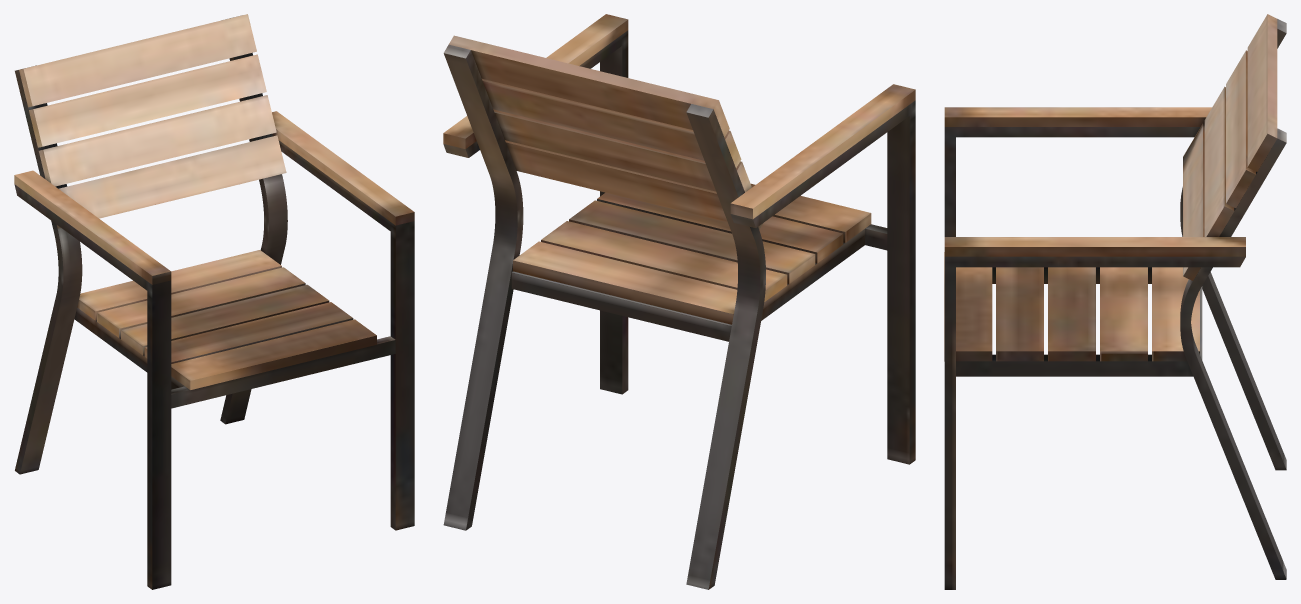
The model's file is garden_chair.glb.
The picture shows the model from 3 angles, left to right: view 1: azimuth 30°, elevation 25°; view 2: azimuth 150°, elevation 25°; view 3: azimuth 270°, elevation 25°; orthographic projection. The views are drawn at different scales.
Visible parts, largest first — view 1: gardenChair; view 2: gardenChair; view 3: gardenChair.
Boxes of the visible parts, x1,y1,x2,y2 form: gardenChair: (14,14,414,589); gardenChair: (443,14,915,589); gardenChair: (944,14,1286,589).
Size of what is drawn, in the model's own units: 0.4578 by 0.6815 by 0.474.
1 material, 1 textured.
